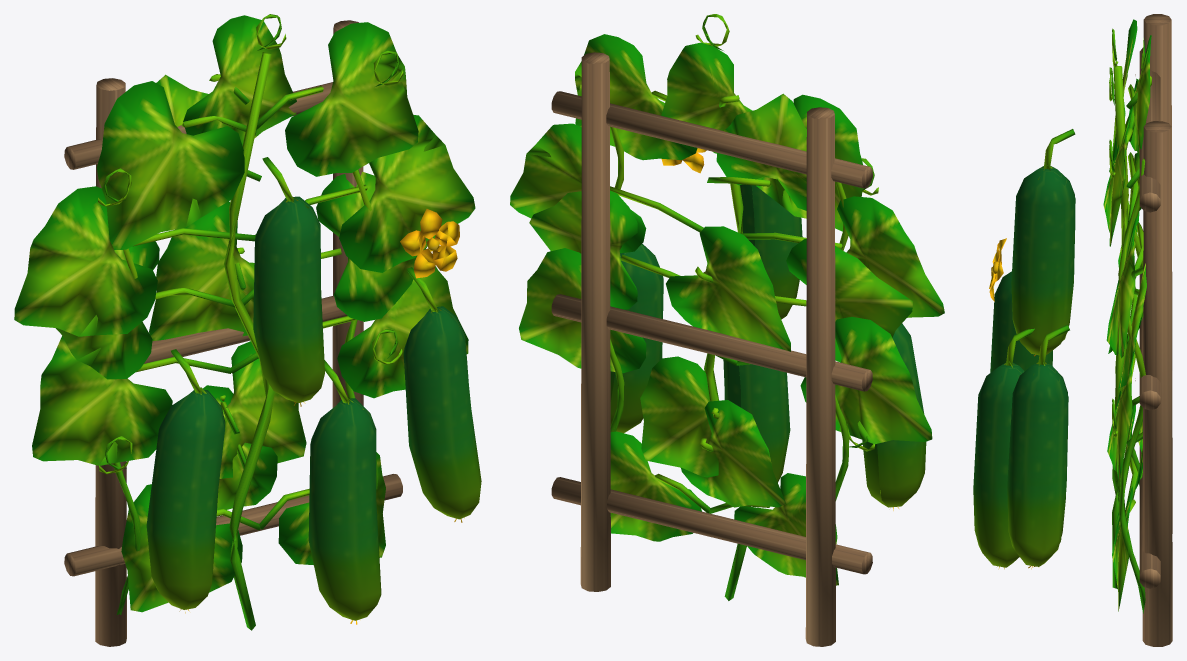
The model's file is NP_Cucumber_Ready_LOD1.fbx.
3 views of the same model, side by side, from view 1: azimuth 30°, elevation 25°; view 2: azimuth 150°, elevation 25°; view 3: azimuth 270°, elevation 25° (orthographic). The views are drawn at different scales.
Parts seen in each view (by area): view 1: NP_Cucumber_Ready; view 2: NP_Cucumber_Ready; view 3: NP_Cucumber_Ready.
Boxes of the visible parts, <box> form: NP_Cucumber_Ready: <box>14,14,481,646</box>; NP_Cucumber_Ready: <box>510,14,944,646</box>; NP_Cucumber_Ready: <box>973,14,1172,646</box>.
Bounding box in the file's own units: 91.11 × 116 × 36.98.
